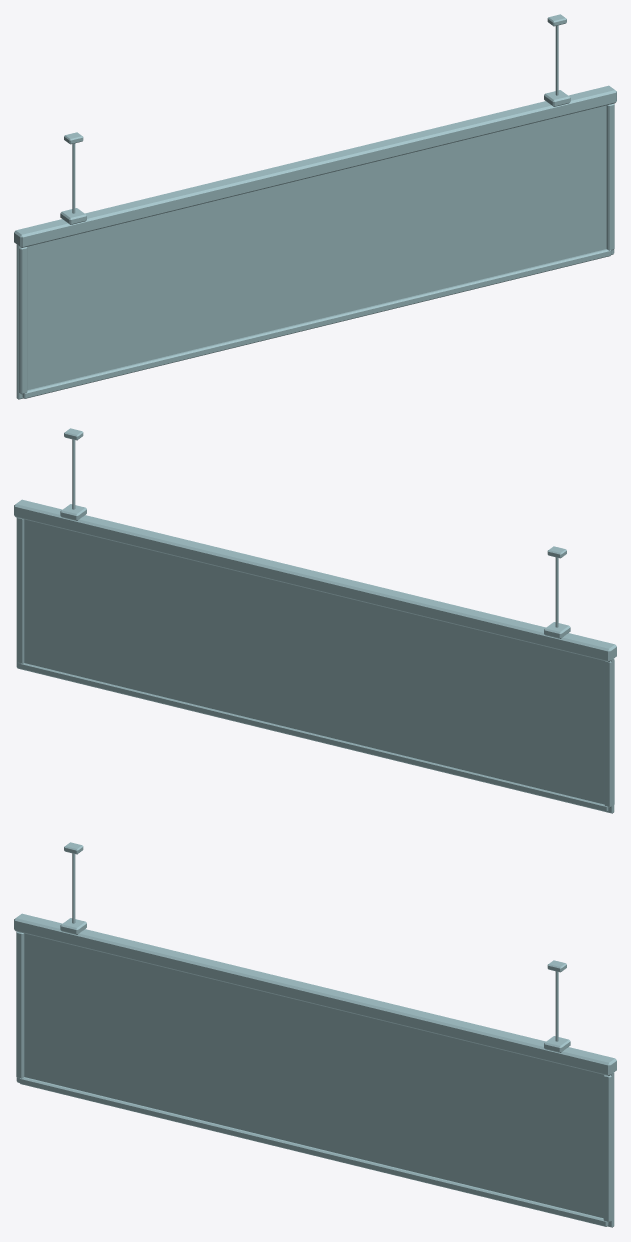
Rendered from 0-20261016-1900-ev006-r01-lobby-glassbanner.fbx.
3 views of the same model, one above another, from view 1: azimuth 30°, elevation 25°; view 2: azimuth 150°, elevation 25°; view 3: azimuth 330°, elevation 25° (orthographic).
Visible parts, largest first — view 1: SW_Lobby_GlassBanner; view 2: SW_Lobby_GlassBanner; view 3: SW_Lobby_GlassBanner.
Part boxes in pixels (<box>): SW_Lobby_GlassBanner: <box>14,14,616,399</box>; SW_Lobby_GlassBanner: <box>14,428,616,813</box>; SW_Lobby_GlassBanner: <box>14,842,616,1227</box>.
Size of the model in its own units: 400 by 160 by 12.
